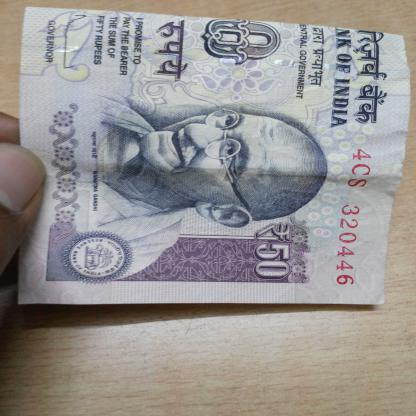Old50Front: (14, 6, 412, 306)
